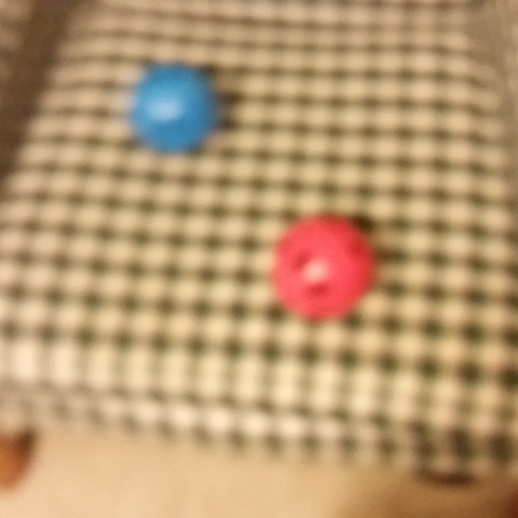blueball: (121, 58, 223, 157)
redball: (268, 212, 380, 325)
